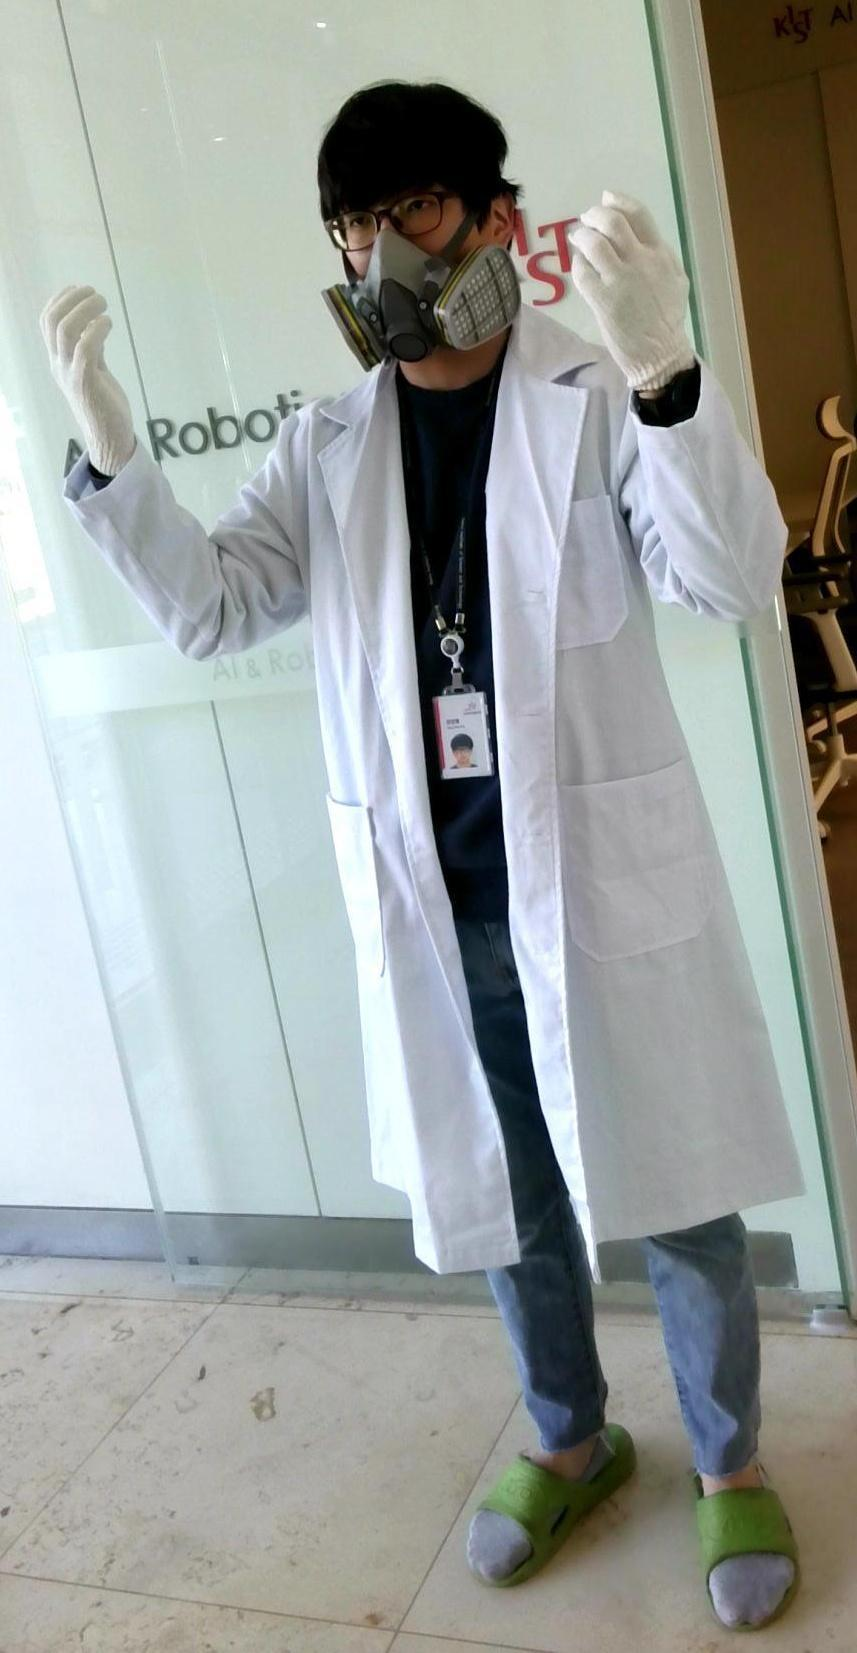lab_coat: (295, 394, 724, 1286)
